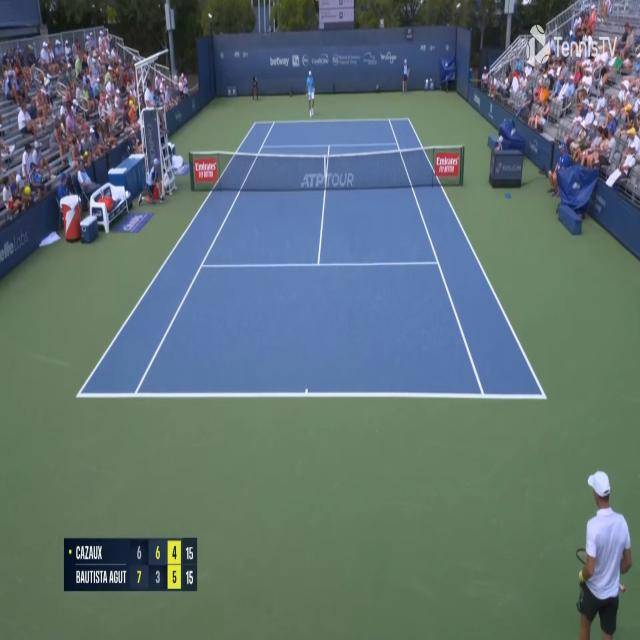tennis-player: (572, 464, 634, 639), (305, 67, 317, 118)
